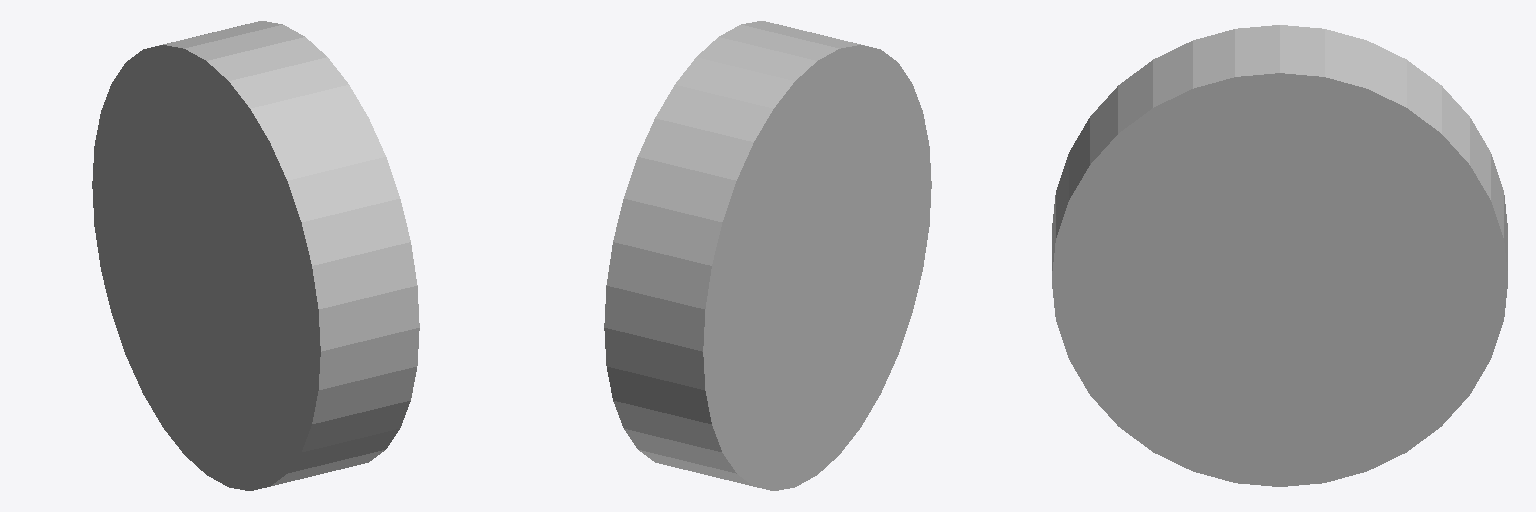
File: flywheel.obj
3 views of the same model, side by side, from view 1: azimuth 30°, elevation 25°; view 2: azimuth 150°, elevation 25°; view 3: azimuth 270°, elevation 25° (orthographic).
Visible parts, largest first — view 1: Flywheel; view 2: Flywheel; view 3: Flywheel.
Boxes of the visible parts, x1,y1,x2,y2 form: Flywheel: [92, 21, 419, 490]; Flywheel: [604, 21, 931, 490]; Flywheel: [1052, 25, 1507, 486].
Bounding box in the file's own units: 0.5 × 2 × 2.